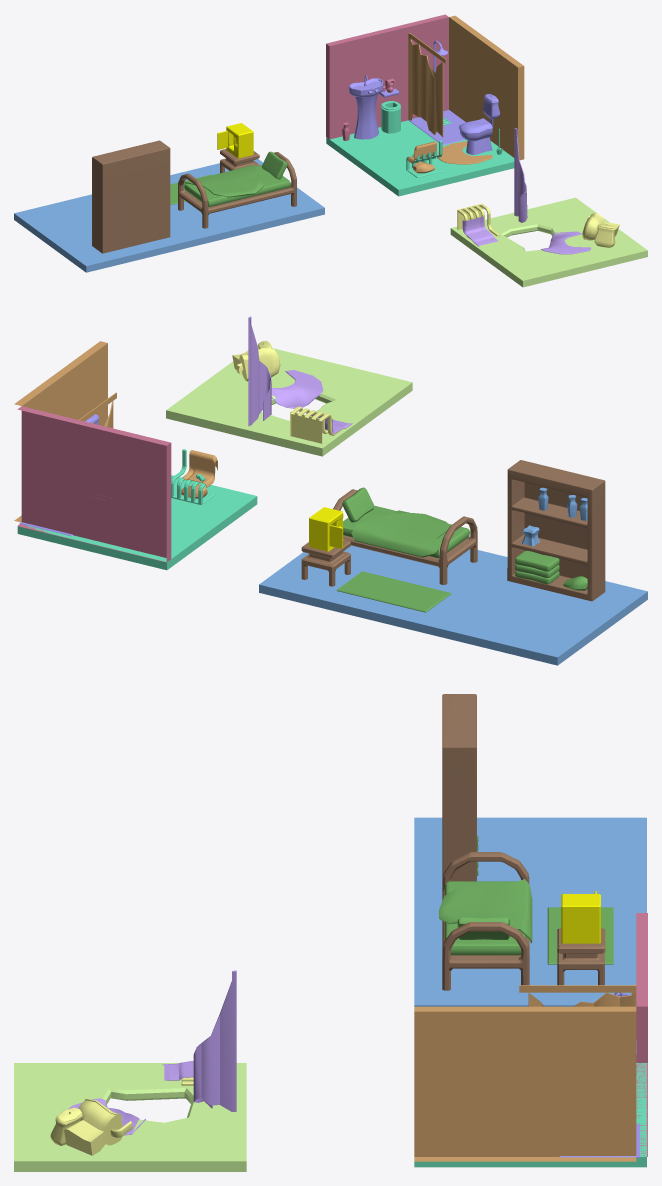
Rendered from bed&bathrooms.fbx.
3 renders of one model, top to bottom at view 1: azimuth 30°, elevation 25°; view 2: azimuth 150°, elevation 25°; view 3: azimuth 270°, elevation 25°, orthographic. The views are drawn at different scales.
Visible parts, largest first — view 1: Bedroom_floor, Bathroom_wall1, Wardrobe1, Bathroom_floor1, Bathroom_wall2, Bathroom_floor2, Curtains1, Bed_Base, Bed_cover, Sink1, Toilet1, Bed_Mattress (+13 smaller); view 2: Bedroom_floor, Bathroom_wall1, Bathroom_floor1, Wardrobe1, Bathroom_floor2, Bathroom_wall2, Bed_cover, Bedroom_rug, Bed_Base, Curtains2, Toilet_rug2, Sleeping_table (+8 smaller); view 3: Bathroom_wall2, Bedroom_floor, Bathroom_floor1, Wardrobe1, Curtains2, Bed_Base, Bed_cover, Bathroom_floor2, Bathroom_wall1, Toilet_D, Safe, Bed_Mattress (+4 smaller).
Boxes of the visible parts, <box> form: Bedroom_floor: <box>14,159,324,272</box>; Bathroom_wall1: <box>326,14,448,139</box>; Wardrobe1: <box>92,140,170,253</box>; Bathroom_floor1: <box>450,197,647,287</box>; Bathroom_wall2: <box>449,15,524,160</box>; Bathroom_floor2: <box>326,120,514,196</box>; Curtains1: <box>408,33,446,137</box>; Bed_Base: <box>178,152,296,228</box>; Bed_cover: <box>184,164,263,197</box>; Sink1: <box>349,75,383,139</box>; Toilet1: <box>459,94,500,154</box>; Bed_Mattress: <box>184,165,290,207</box>; Bedroom_floor: <box>259,545,647,665</box>; Bathroom_wall1: <box>17,406,171,562</box>; Bathroom_floor1: <box>166,344,412,456</box>; Wardrobe1: <box>507,460,605,601</box>; Bathroom_floor2: <box>17,475,257,570</box>; Bathroom_wall2: <box>14,341,107,522</box>; Bed_cover: <box>351,510,449,557</box>; Bedroom_rug: <box>336,571,450,612</box>; Bed_Base: <box>333,489,477,584</box>; Curtains2: <box>248,316,271,426</box>; Toilet_rug2: <box>271,370,323,408</box>; Sleeping_table: <box>301,539,350,586</box>; Bathroom_wall2: <box>414,1006,636,1161</box>; Bedroom_floor: <box>414,817,646,1006</box>; Bathroom_floor1: <box>14,1063,246,1171</box>; Wardrobe1: <box>442,694,476,885</box>; Curtains2: <box>193,970,236,1111</box>; Bed_Base: <box>442,852,529,990</box>; Bed_cover: <box>439,879,532,943</box>; Bathroom_floor2: <box>414,1063,646,1167</box>; Bathroom_wall1: <box>636,913,647,1156</box>; Toilet_D: <box>64,1099,132,1155</box>; Safe: <box>561,894,600,943</box>; Bed_Mattress: <box>445,881,526,955</box>.
Bounding box in the file's own units: 1233 × 279 × 960.
